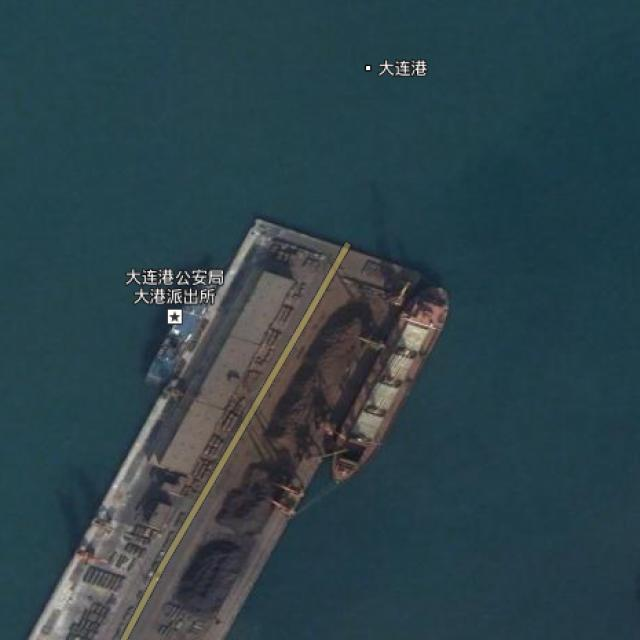Cargo: (321, 276, 459, 492)
